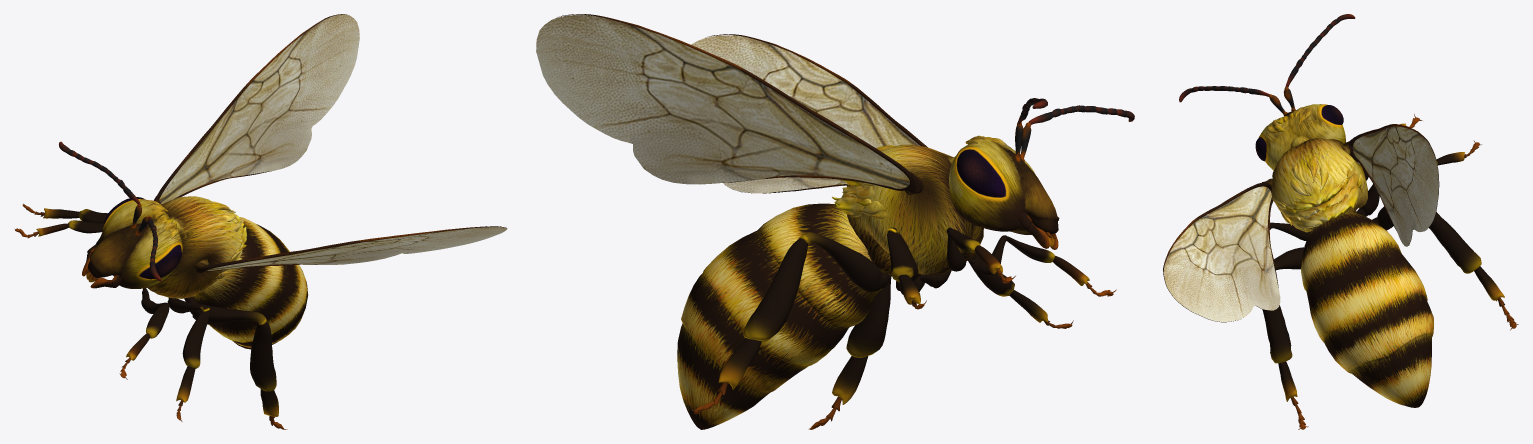
Rendered from bee.glb.
3 views of the same model, side by side, from view 1: azimuth 30°, elevation 25°; view 2: azimuth 150°, elevation 25°; view 3: azimuth 270°, elevation 25° (orthographic). The views are drawn at different scales.
Parts seen in each view (by area): view 1: node_id115_113; view 2: node_id115_113; view 3: node_id115_113.
Part boxes in pixels (box(x1,y1,x2,y2)): node_id115_113: box(15, 14, 507, 429); node_id115_113: box(536, 14, 1134, 429); node_id115_113: box(1163, 14, 1518, 429).
Bounding box in the file's own units: 0.6714 × 0.5792 × 0.5497.
1 material, 1 textured.
